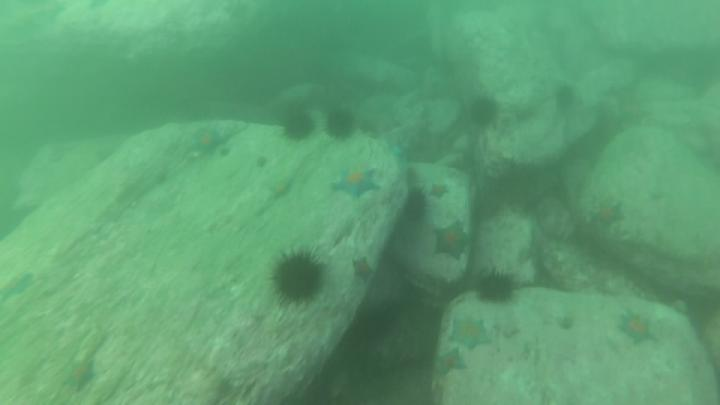echinus: (267, 244, 331, 310), (474, 269, 519, 306), (465, 93, 501, 132), (324, 105, 359, 144), (279, 110, 317, 144), (403, 185, 431, 225), (554, 80, 578, 114)
starfish: (447, 317, 496, 358), (331, 166, 382, 203), (433, 216, 472, 263), (612, 92, 654, 132), (619, 307, 658, 350), (63, 358, 99, 396), (1, 272, 35, 310), (435, 347, 469, 381), (190, 126, 224, 158), (594, 199, 627, 230), (349, 254, 375, 285), (266, 176, 297, 200), (425, 182, 453, 201), (429, 382, 449, 405)
